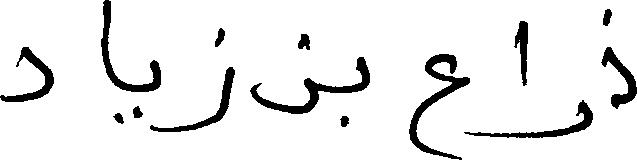X: (409, 49, 469, 159), (251, 29, 317, 118), (191, 23, 234, 134), (0, 42, 53, 106), (605, 4, 636, 113), (545, 95, 591, 141), (101, 0, 113, 121), (517, 16, 527, 142), (151, 55, 161, 136), (357, 52, 369, 96)
